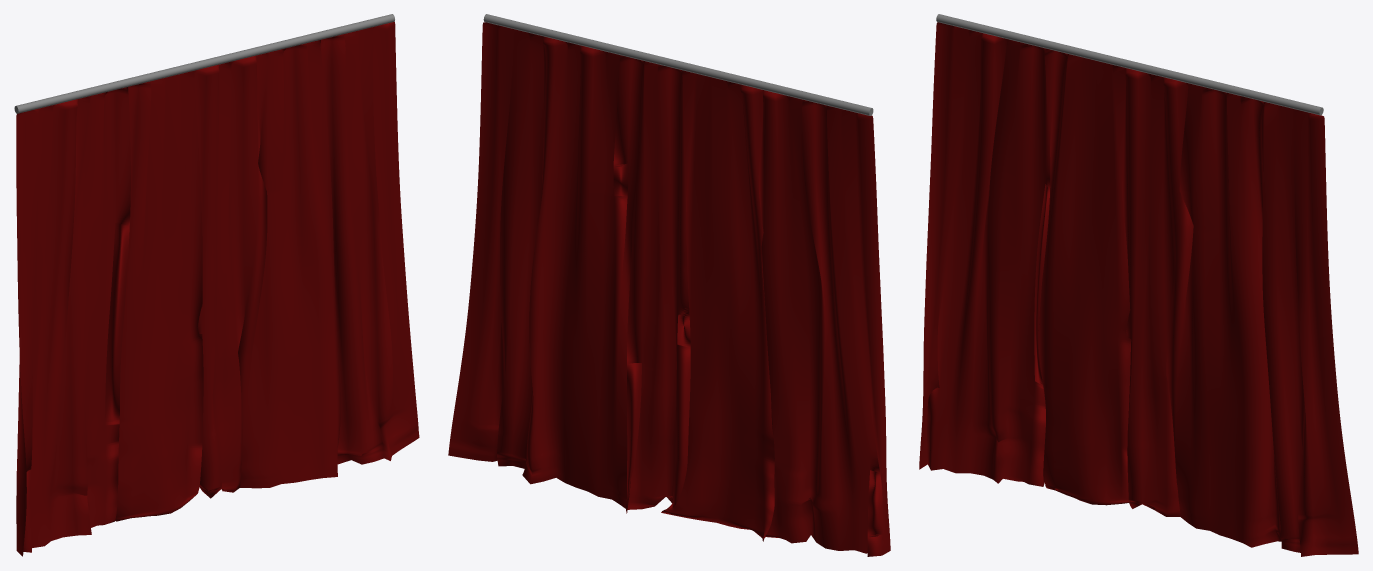
File: NC_RightCurtain_04_DF.fbx
3 views of the same model, side by side, from view 1: azimuth 30°, elevation 25°; view 2: azimuth 150°, elevation 25°; view 3: azimuth 330°, elevation 25° (orthographic). The views are drawn at different scales.
Visible parts, largest first — view 1: Curtains2, CurtainPole2; view 2: Curtains2, CurtainPole2; view 3: Curtains2, CurtainPole2.
Boxes of the visible parts, x1,y1,x2,y2 form: Curtains2: (16, 22, 419, 556); CurtainPole2: (14, 14, 394, 113); Curtains2: (448, 22, 890, 556); CurtainPole2: (483, 14, 873, 115); Curtains2: (919, 22, 1358, 556); CurtainPole2: (936, 14, 1323, 115).
Bounding box in the file's own units: 6.48 × 6.63 × 0.7269.
